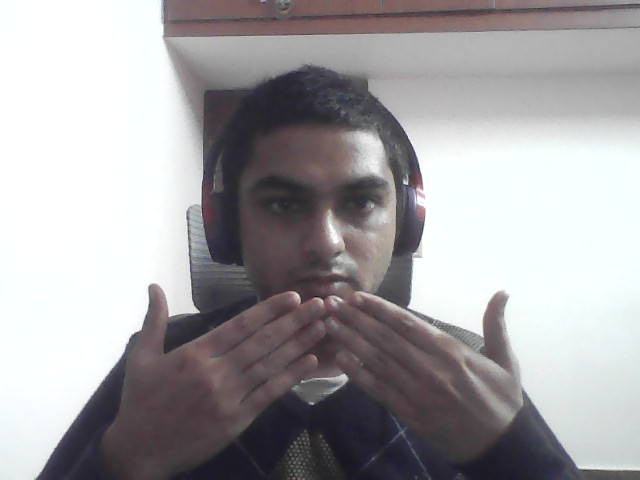Thank You: (78, 278, 546, 465)
